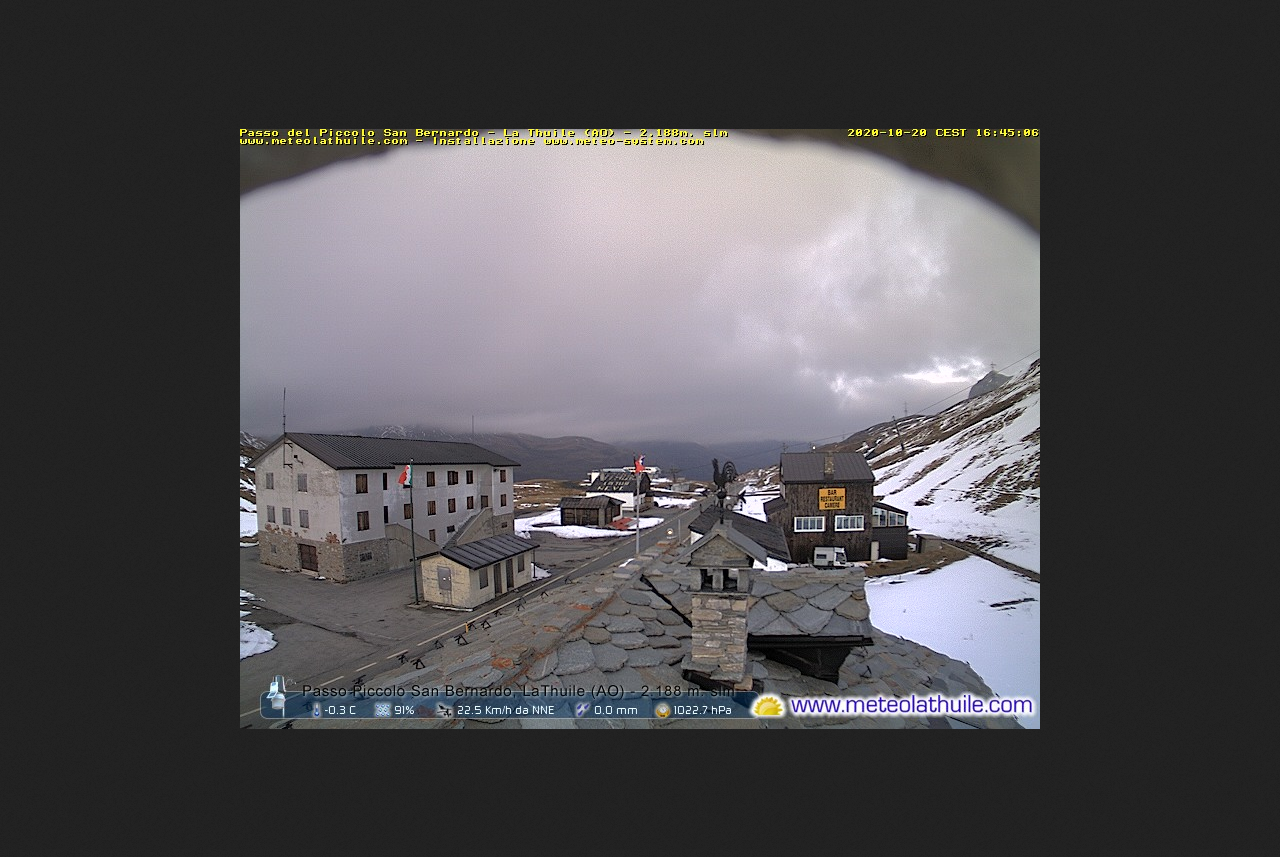no: (396, 457, 415, 492)
